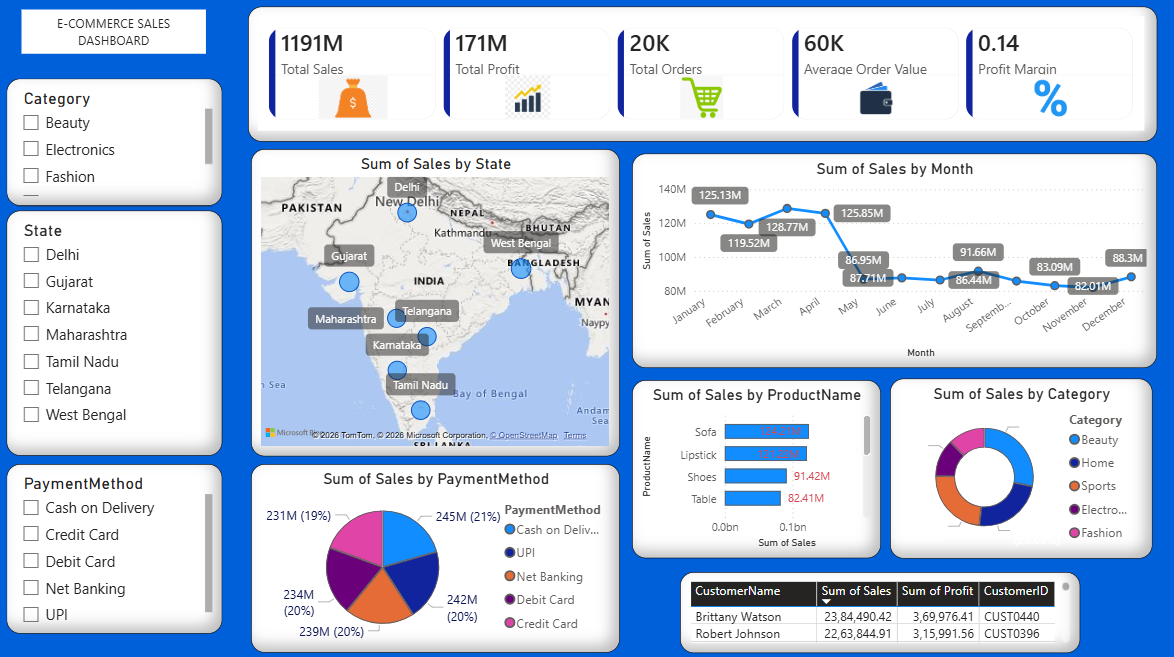

The dashboard page shown, as its layout file describes it:
{"tool":"powerbi","page":{"name":"Page 1","canvas":[1280,720],"ordinal":0},"visuals":[{"type":"cardVisual","fields":{"Data":["Orders.Total Sales","Orders.Total Profit","Orders.Total Orders","Orders.Average Order Value","Orders.Profit Margin"]},"box":[270,14.6,985.7,146.4],"z":0},{"type":"lineChart","fields":{"Y":["Sum(Orders.Sales)"],"Category":["Orders.OrderDate.Variation.Date Hierarchy.Month","Orders.OrderDate.Variation.Date Hierarchy.Day"]},"box":[686.4,174,569.3,232.6],"z":1000},{"type":"map","fields":{"Category":["Customers.State"],"Size":["Sum(Orders.Sales)"]},"box":[273.3,169.2,400.1,333.4],"z":2000},{"type":"donutChart","fields":{"Category":["Products.Category"],"Y":["Sum(Orders.Sales)"]},"box":[966.2,418,284.6,195.2],"z":3000},{"type":"clusteredBarChart","fields":{"Category":["Products.ProductName"],"Y":["Sum(Orders.Sales)"]},"box":[686.4,419.6,270,193.6],"z":4000},{"type":"pieChart","fields":{"Category":["Orders.PaymentMethod"],"Y":["Sum(Orders.Sales)"]},"box":[273.3,510.7,400.1,204.9],"z":5000},{"type":"tableEx","fields":{"Values":["Customers.CustomerName","Sum(Orders.Sales)","Sum(Orders.Profit)","Orders.CustomerID"]},"box":[738.5,627.8,434.3,87.8],"z":6000},{"type":"slicer","fields":{"Values":["Products.Category"]},"box":[8,92,234,138],"z":7000},{"type":"slicer","fields":{"Values":["Customers.State"]},"box":[8,236,234,266],"z":8000},{"type":"slicer","fields":{"Values":["Orders.PaymentMethod"]},"box":[8,510,234,184],"z":9000},{"type":"textbox","box":[24,18,200,48],"z":10000}]}

Visuals, with their boxes in screenshot pixels (x1, y1, x2, y2), scaled from the page's 1280x720 canvas onto the 1174x657 screenshot:
cardVisual - Orders.Total Sales x Orders.Total Profit: 248/13/1152/147
lineChart - Sum(Orders.Sales) x Orders.OrderDate.Variation.Date Hierarchy.Month: 630/159/1152/371
map - Customers.State x Sum(Orders.Sales): 251/154/618/459
donutChart - Products.Category x Sum(Orders.Sales): 886/381/1147/560
clusteredBarChart - Products.ProductName x Sum(Orders.Sales): 630/383/877/560
pieChart - Orders.PaymentMethod x Sum(Orders.Sales): 251/466/618/653
tableEx - Customers.CustomerName x Sum(Orders.Sales): 677/573/1076/653
slicer - Products.Category: 7/84/222/210
slicer - Customers.State: 7/215/222/458
slicer - Orders.PaymentMethod: 7/465/222/633
textbox: 22/16/205/60
